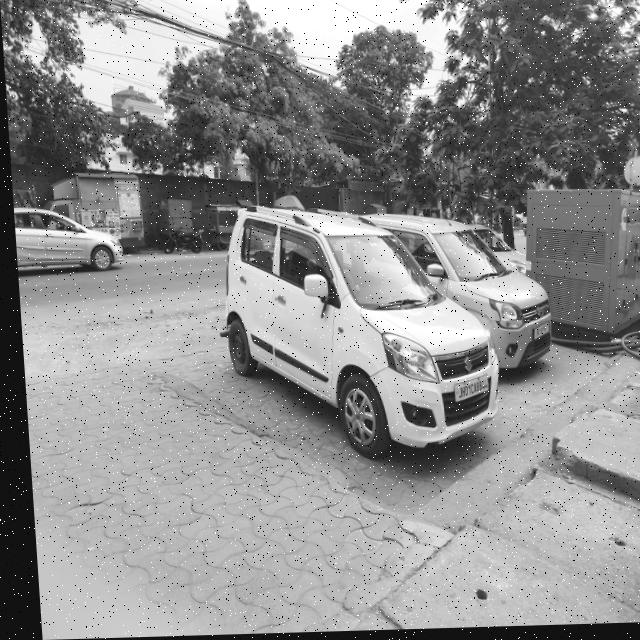car: (201, 186, 503, 483), (358, 208, 547, 380), (10, 194, 131, 295)
